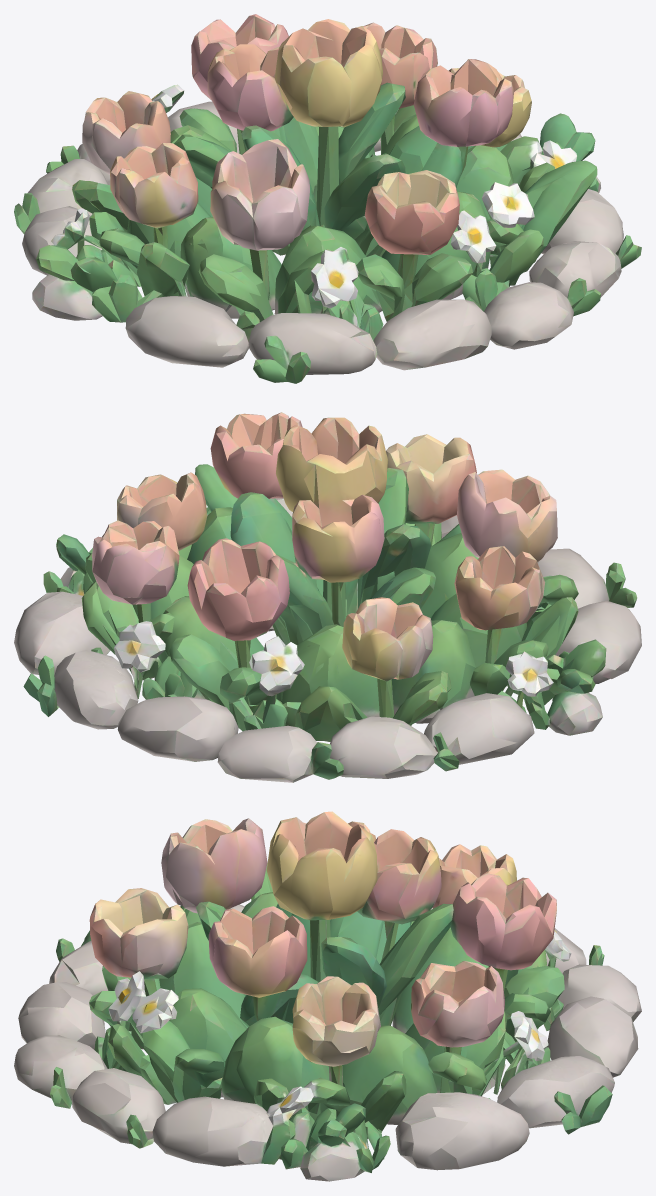
File: flowers.glb
3 views of the same model, one above another, from view 1: azimuth 30°, elevation 25°; view 2: azimuth 150°, elevation 25°; view 3: azimuth 270°, elevation 25° (orthographic).
Parts seen in each view (by area): view 1: output_unwrapped; view 2: output_unwrapped; view 3: output_unwrapped.
Boxes of the visible parts, x1=… form: output_unwrapped: x1=14, y1=14, x2=641, y2=383; output_unwrapped: x1=14, y1=412, x2=641, y2=782; output_unwrapped: x1=14, y1=811, x2=641, y2=1181.
Bounding box in the file's own units: 1.9 × 0.7207 × 1.86.
Materials: 1 (1 with a texture image).
